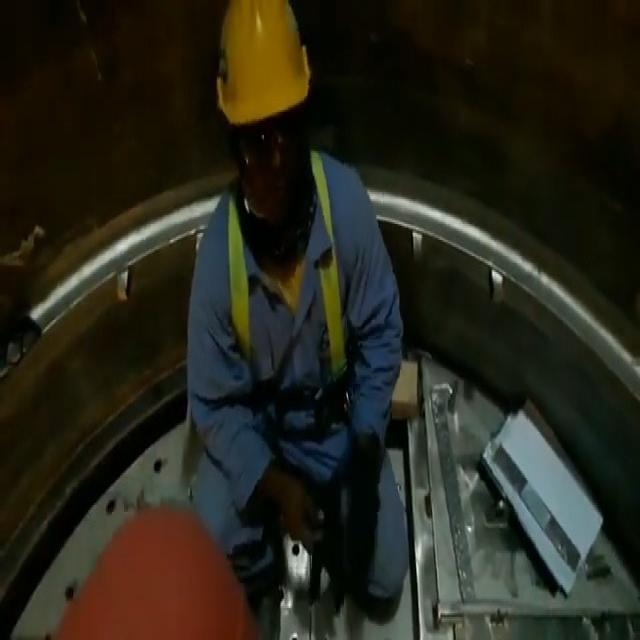No_BreathingApparatus: (229, 126, 292, 214)
Person: (199, 0, 393, 629)
